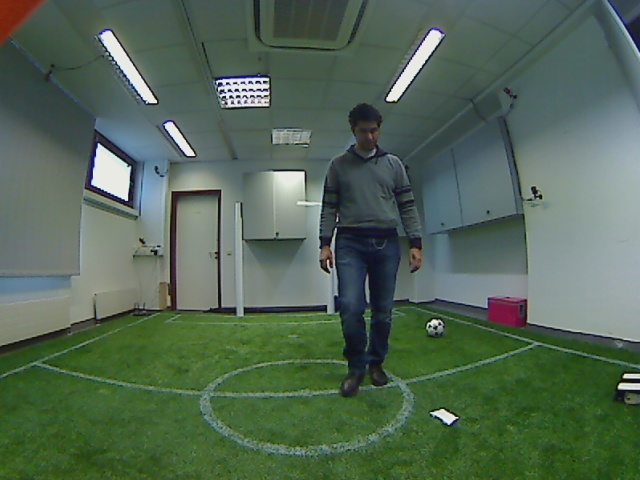ball: (421, 315, 449, 341)
